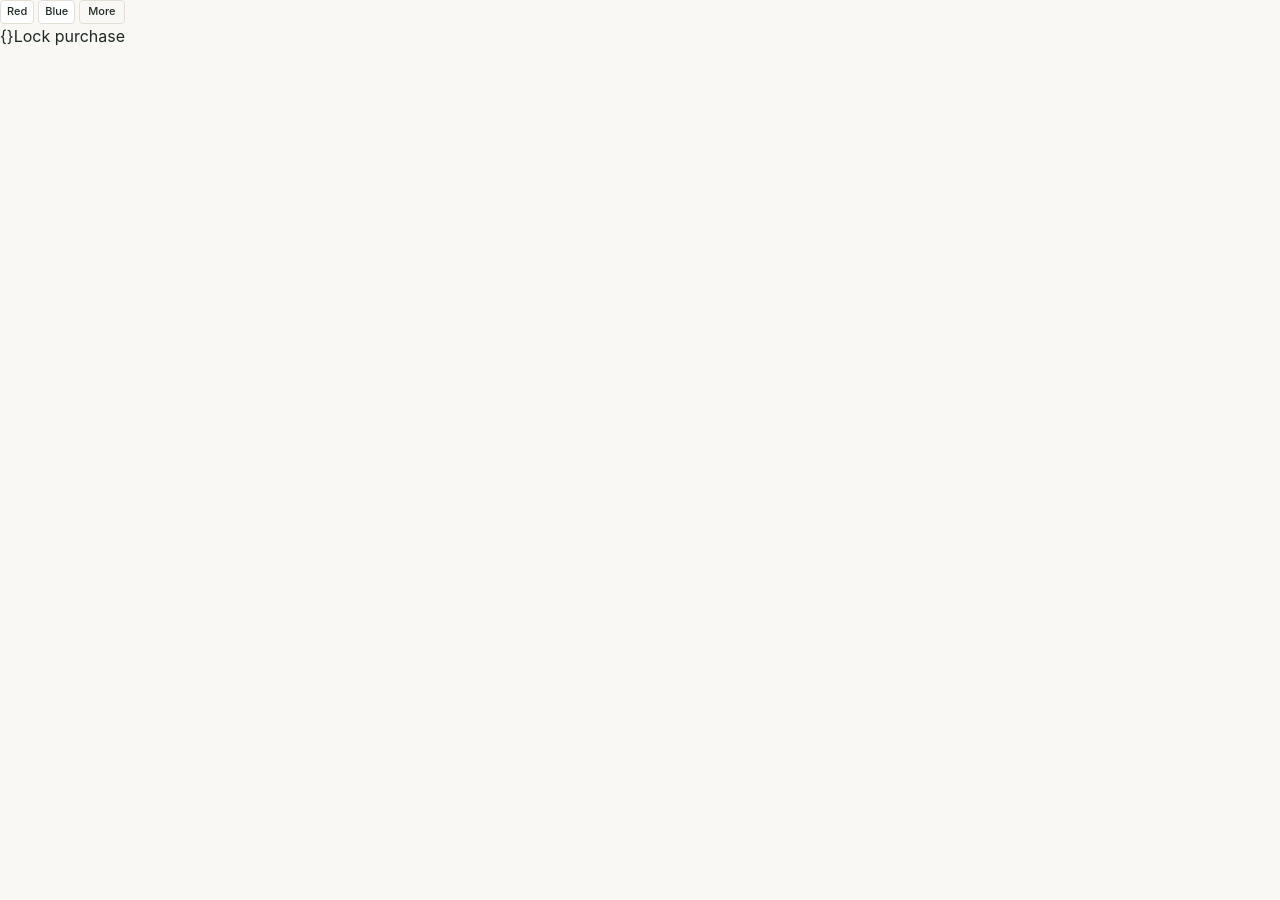
ProductCardVariantSelector › uses real two-dimensional compatibility and clears an invalid downstream selection
Click the button "Red" at (17, 12), box [0, 0, 34, 24]
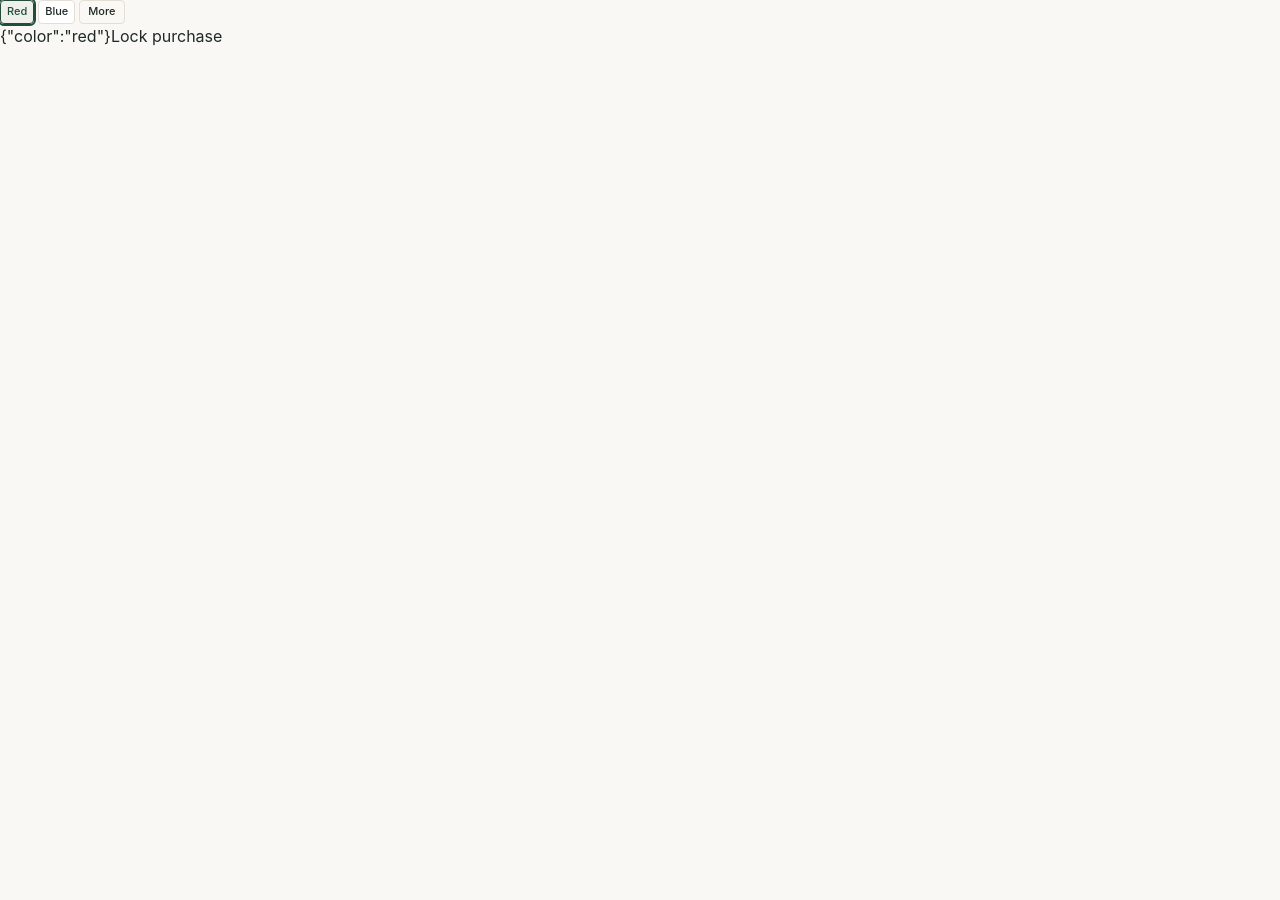
Click the button with aria-label "More options" at (102, 12), box [79, 0, 124, 24]
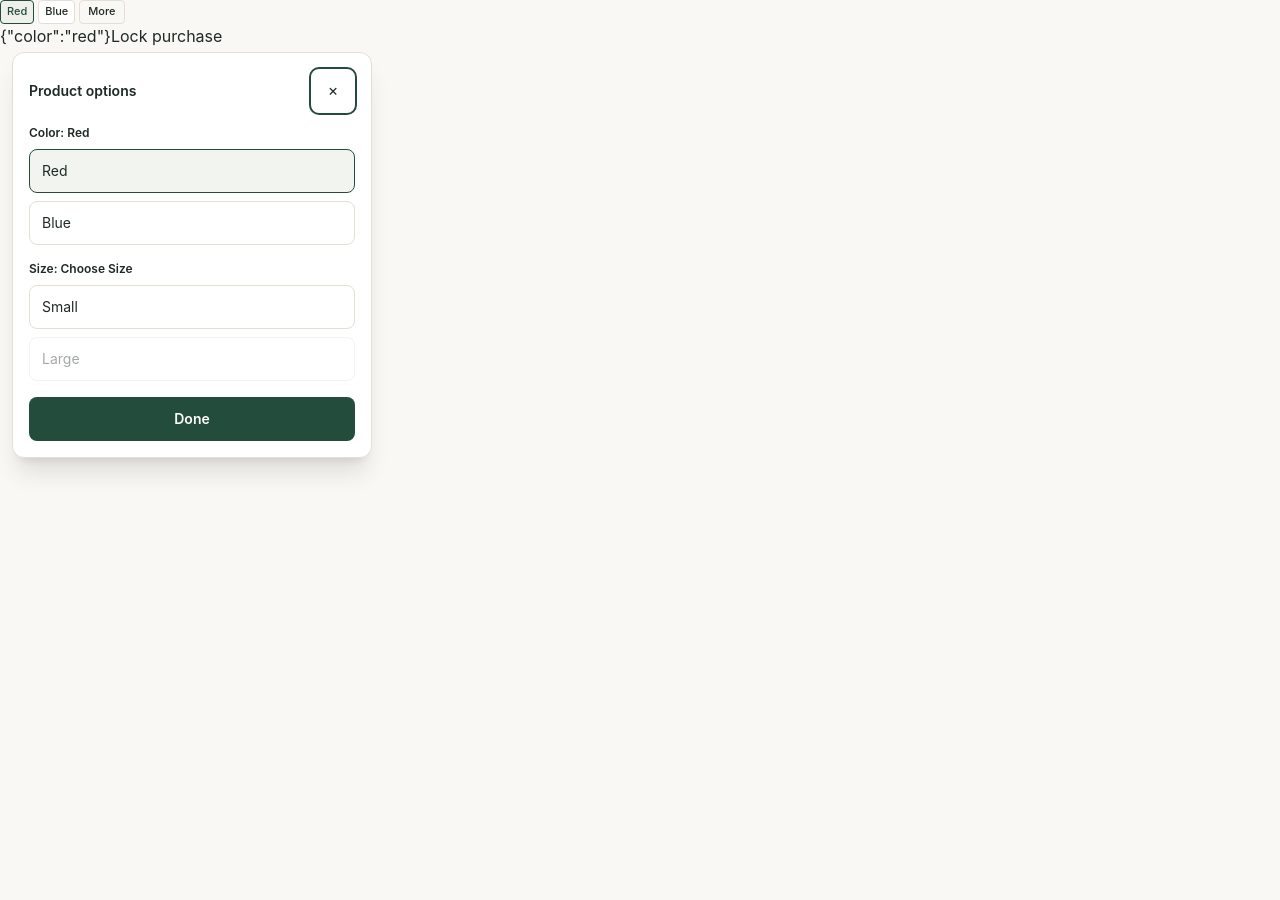
Check: the button "Large" is disabled, box [29, 337, 355, 381]
Click the button "Small" at (60, 306), box [29, 285, 355, 329]
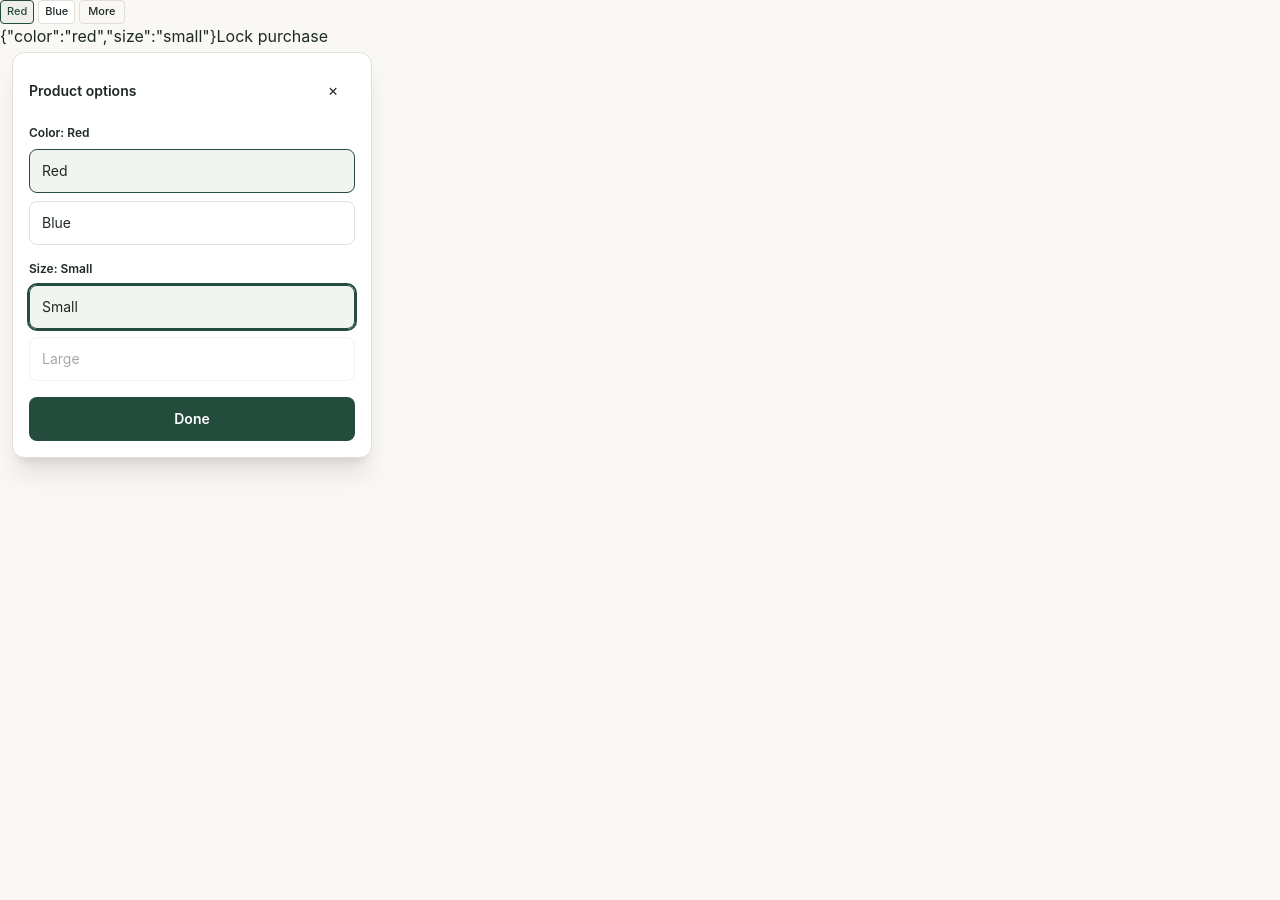
Check: the text with test id "selection" reads "{\"color\":\"red\",\"size\":\"small\"}", box [0, 26, 217, 46]
Click the button "Done" at (192, 419), box [29, 397, 355, 441]
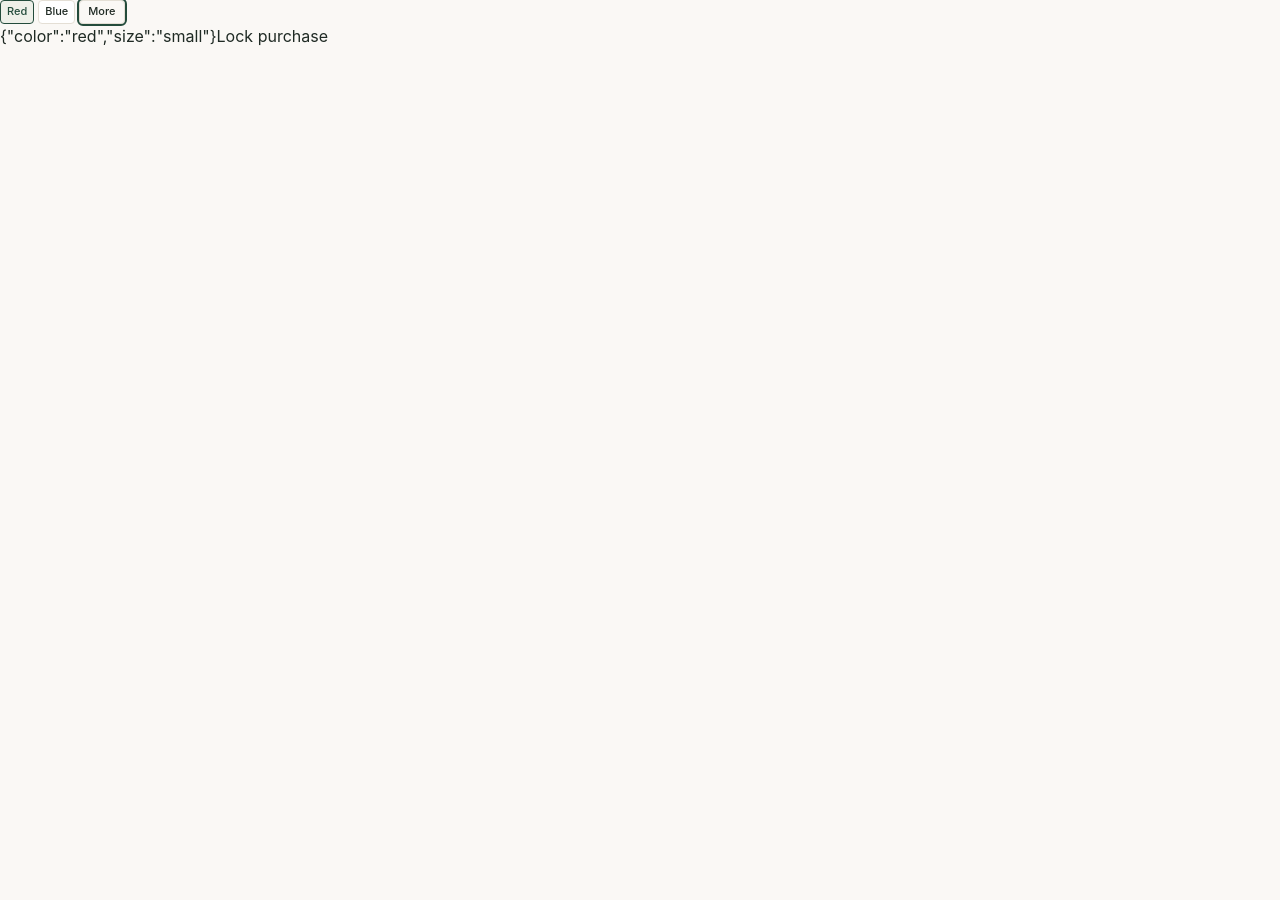
Click the button "Blue" at (57, 12), box [38, 0, 75, 24]
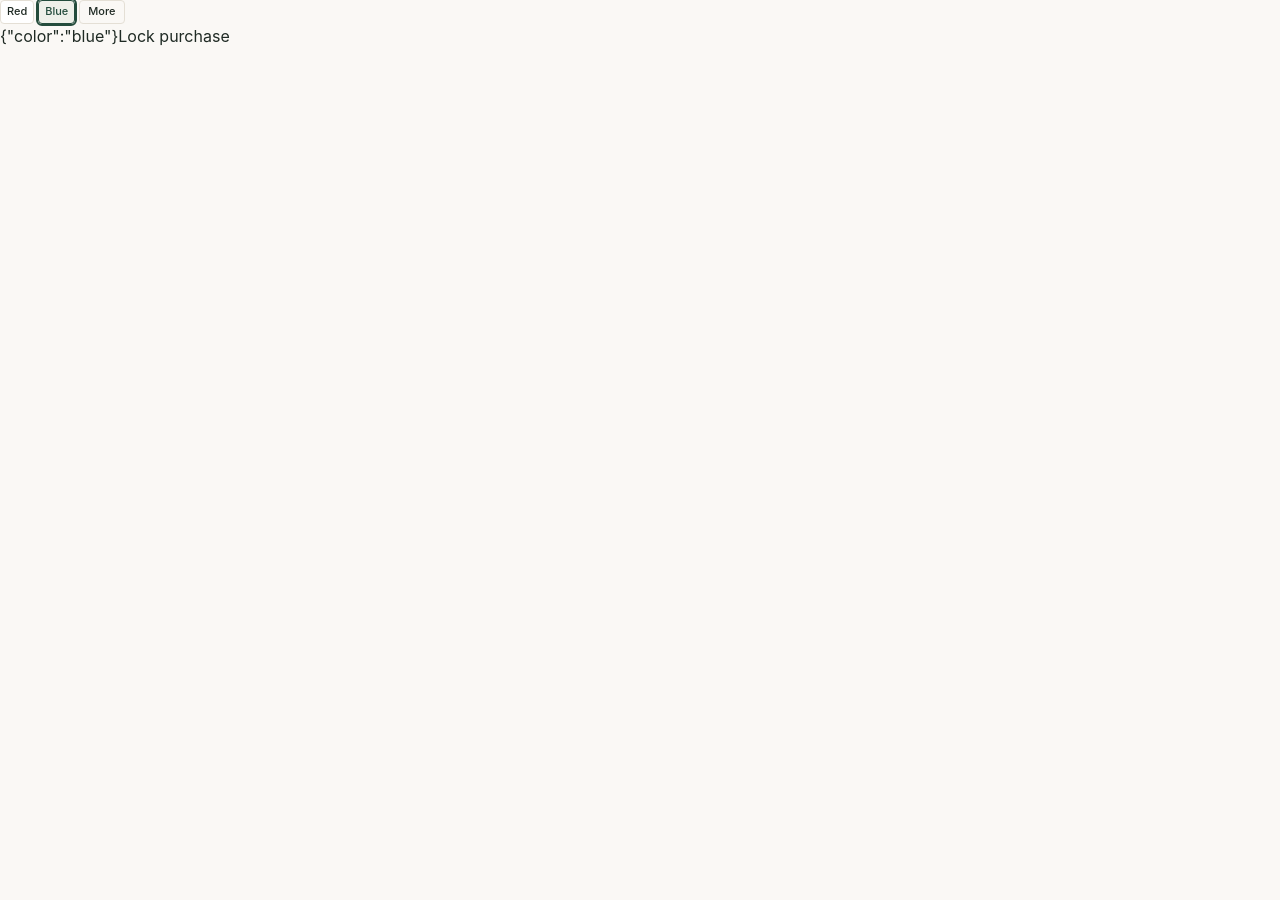
Check: the text with test id "selection" reads "{\"color\":\"blue\"}", box [0, 26, 118, 46]
Click the button with aria-label "More options" at (102, 12), box [79, 0, 124, 24]
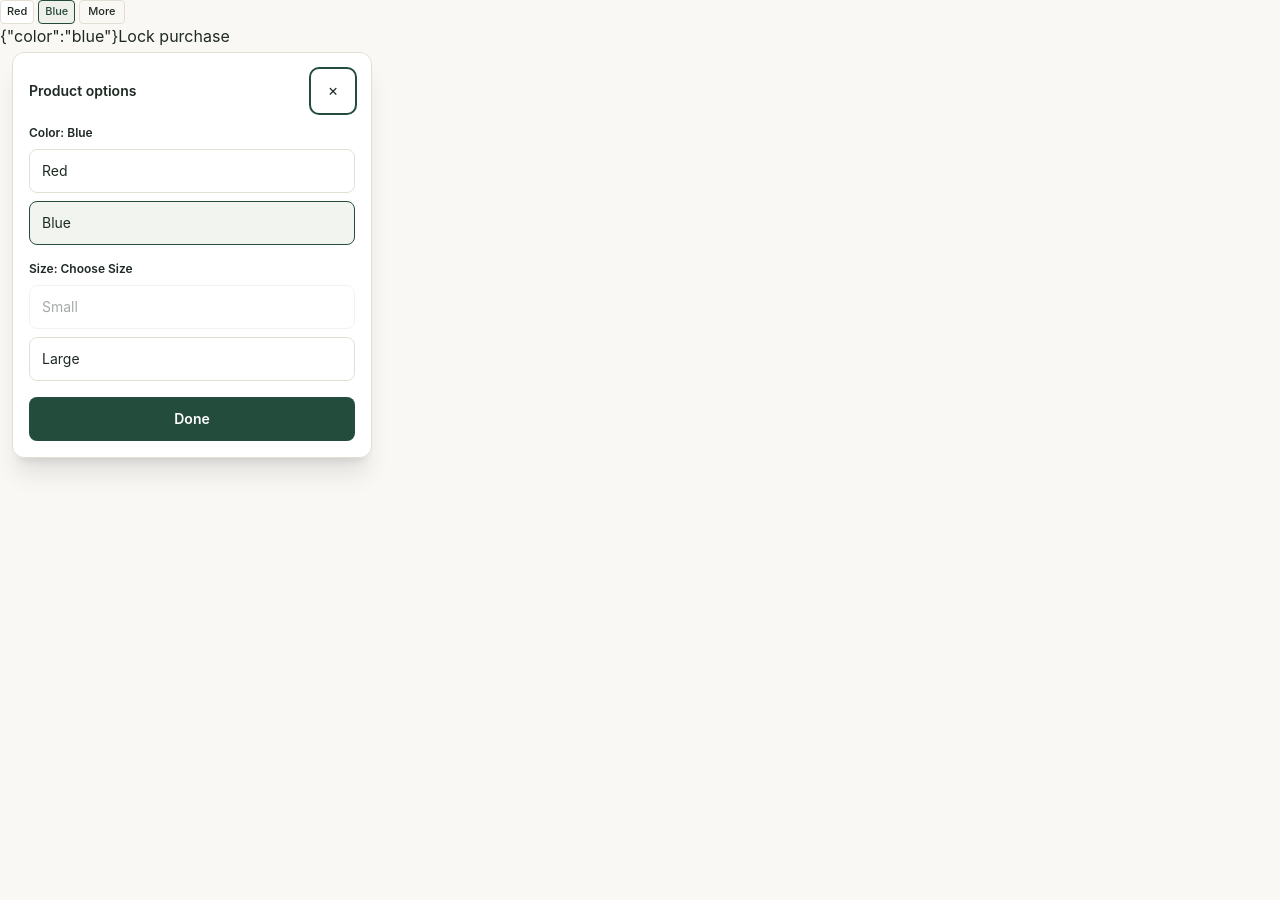
Check: the button "Small" is disabled, box [29, 285, 355, 329]
Check: the button "Large" is enabled, box [29, 337, 355, 381]
